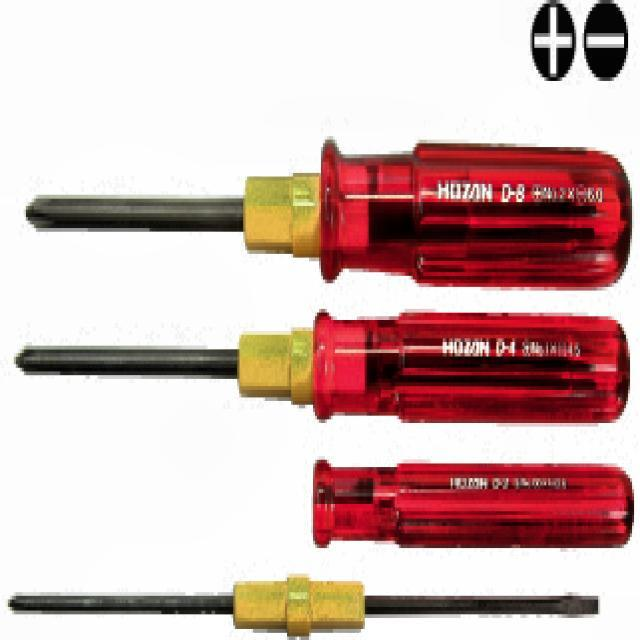screwdriver: (26, 144, 631, 288), (13, 314, 631, 424)
